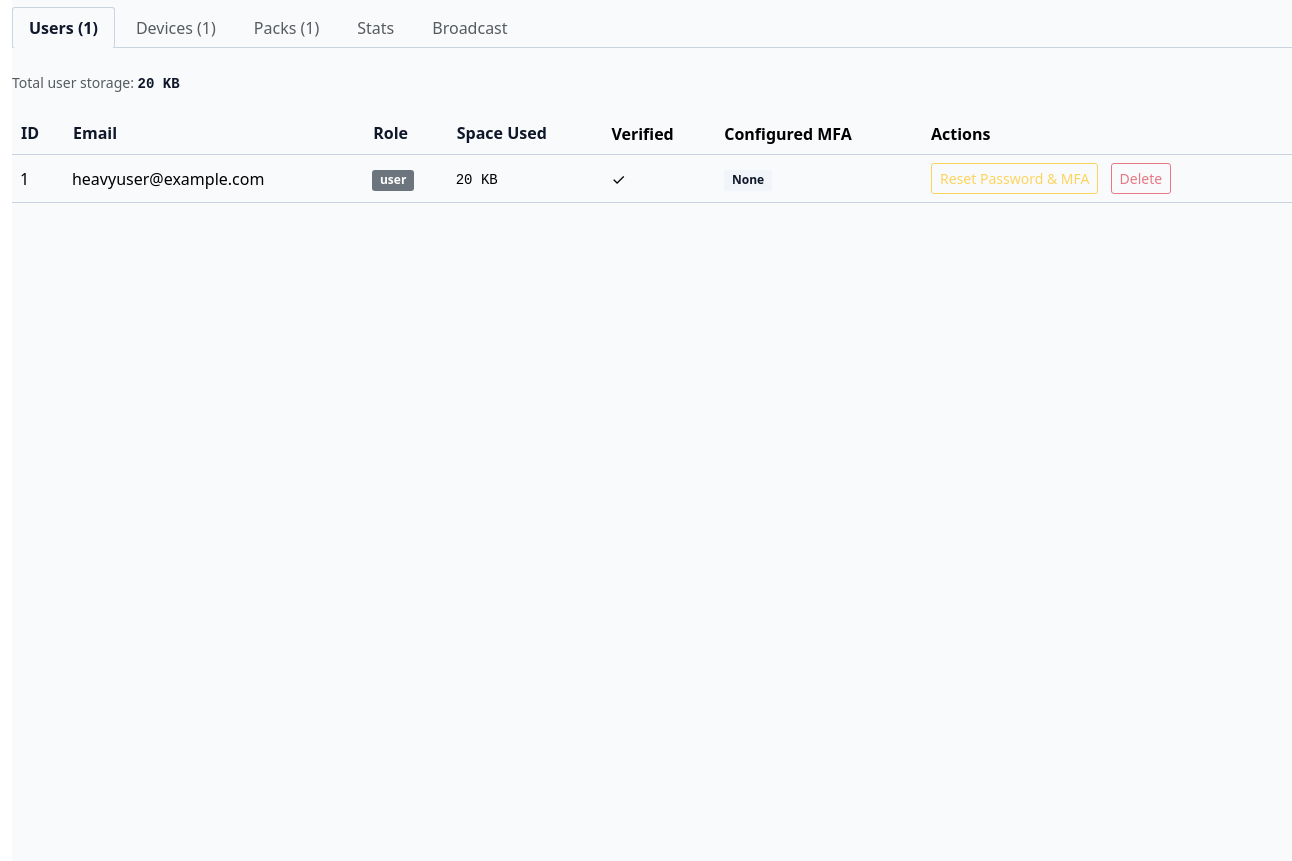
Test case: Route Pages Load Verification › renders Admin page stats tab with user storage stats
Click the button "Stats". click: point(376, 28)
box: [357,17,394,39]
(page scrolled)
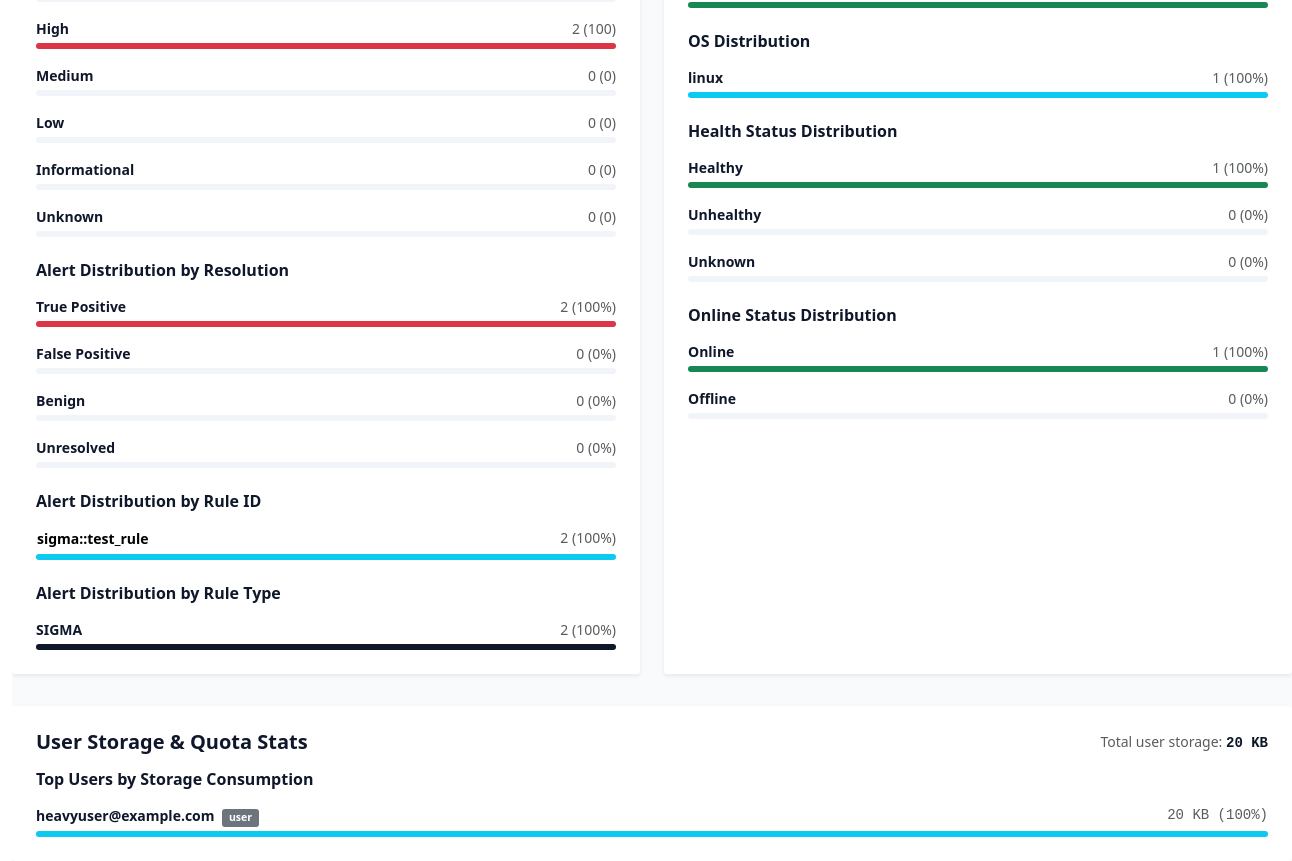
Expected: the text "heavyuser@example.com" is shown, [36,806,218,825]
Expected: the heading "User Storage & Quota Stats" is shown, [36,730,308,754]
